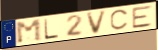2: (66, 14, 84, 37)
C: (109, 8, 131, 31)
E: (131, 4, 154, 30)
L: (43, 18, 61, 41)
M: (15, 18, 44, 45)
V: (86, 9, 109, 36)
